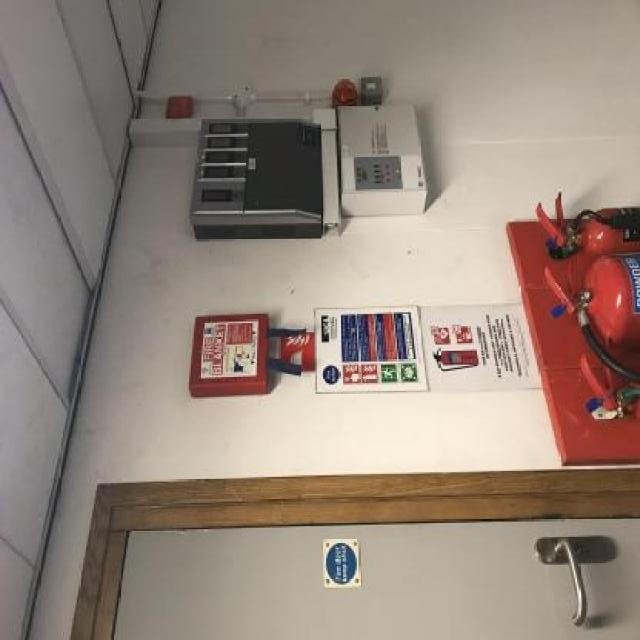fire extinguisher: (543, 250, 640, 388), (535, 192, 640, 259)
